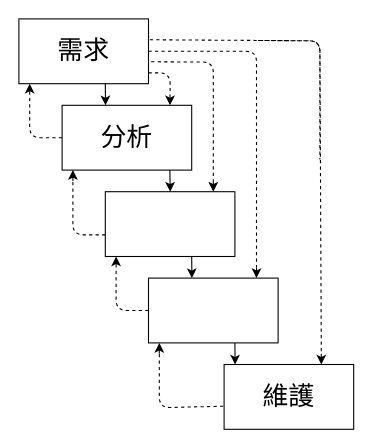
Image size: 373x448. Some labels were removed from this diagram. Here are the shapes that lost their labels. From the top down, the centre of each, then its label:
At (x=169, y=223): "設計".
At (x=212, y=310): "製作".
